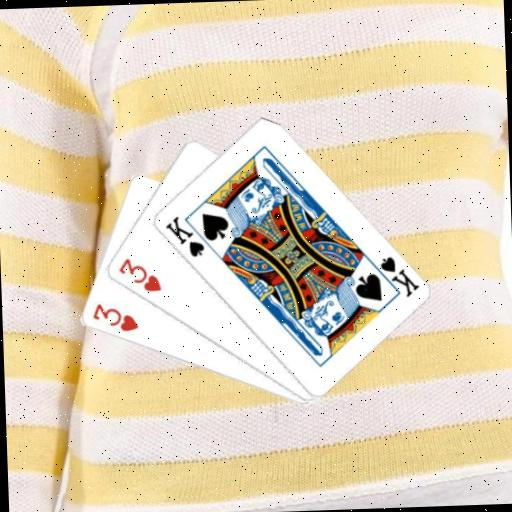3H: (115, 253, 163, 295), (88, 299, 139, 335)
KS: (367, 252, 421, 300), (161, 212, 206, 259)
